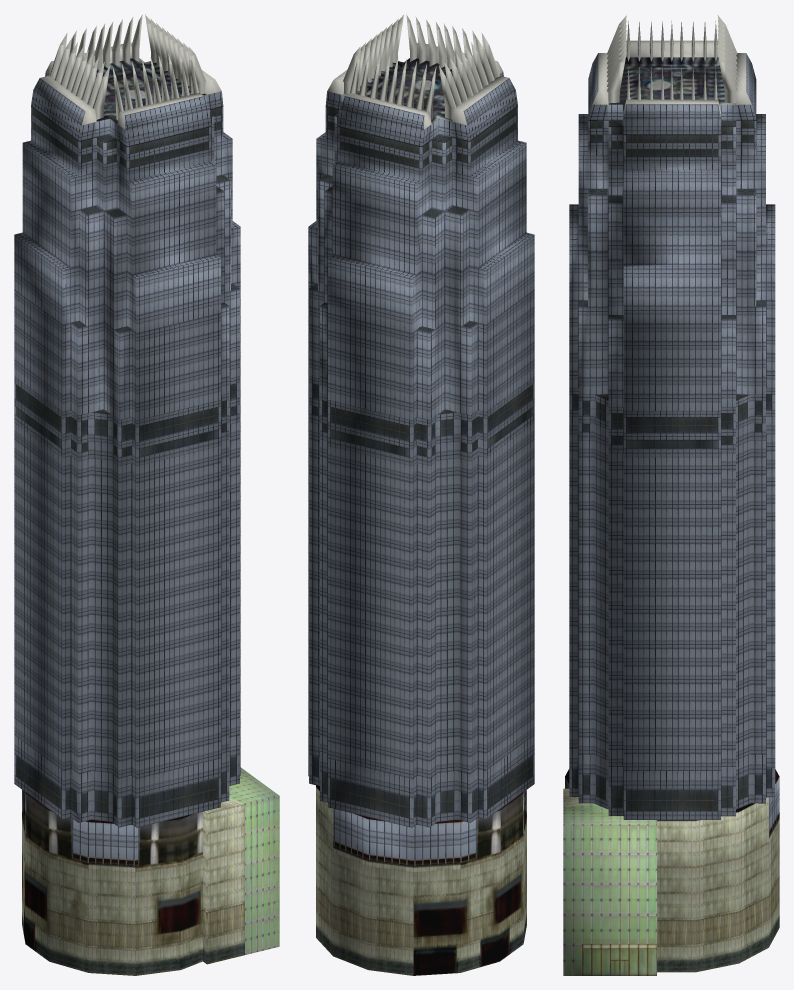
The model's file is 1IFC_HighLOD.dae.
3 views of the same model, side by side, from view 1: azimuth 30°, elevation 25°; view 2: azimuth 150°, elevation 25°; view 3: azimuth 270°, elevation 25° (orthographic).
Visible parts, largest first — view 1: One_IFC; view 2: One_IFC; view 3: One_IFC.
Boxes of the visible parts, x1,y1,x2,y2 form: One_IFC: [14, 14, 279, 975]; One_IFC: [308, 14, 534, 975]; One_IFC: [563, 15, 779, 975].
Bounding box in the file's own units: 48.76 × 46.12 × 211.
Materials: 1 (1 with a texture image).
